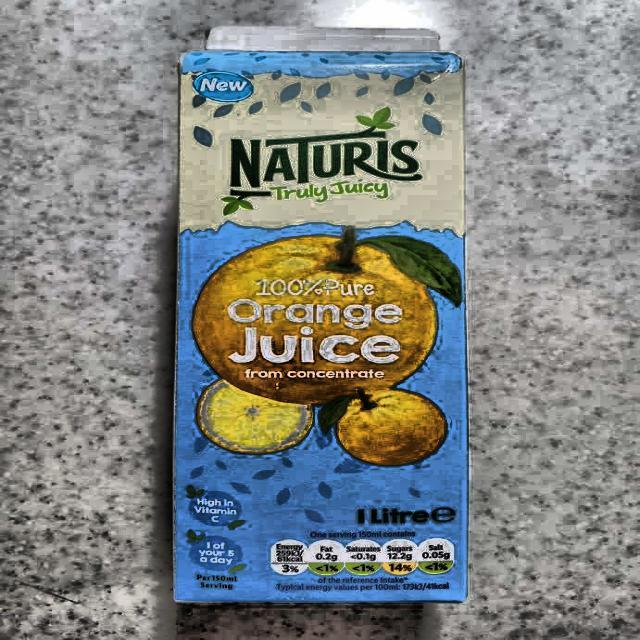cardboard: (170, 28, 470, 603)
